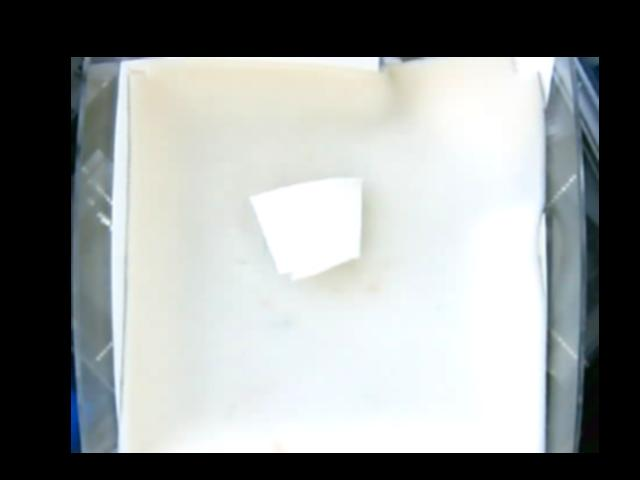Cup: (249, 174, 360, 278)
